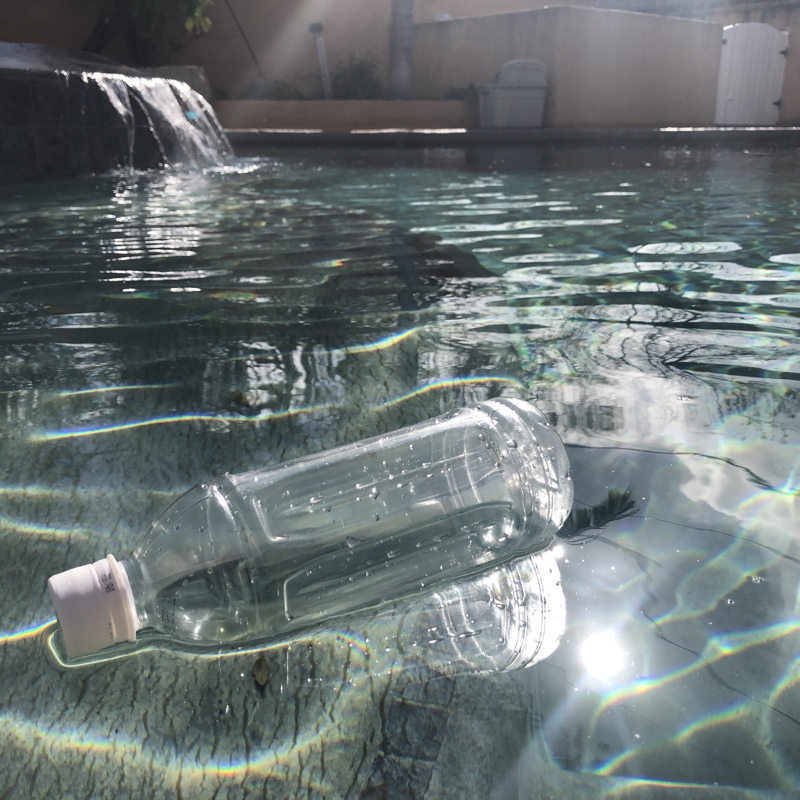Plastic Bottle: (41, 390, 577, 669)
